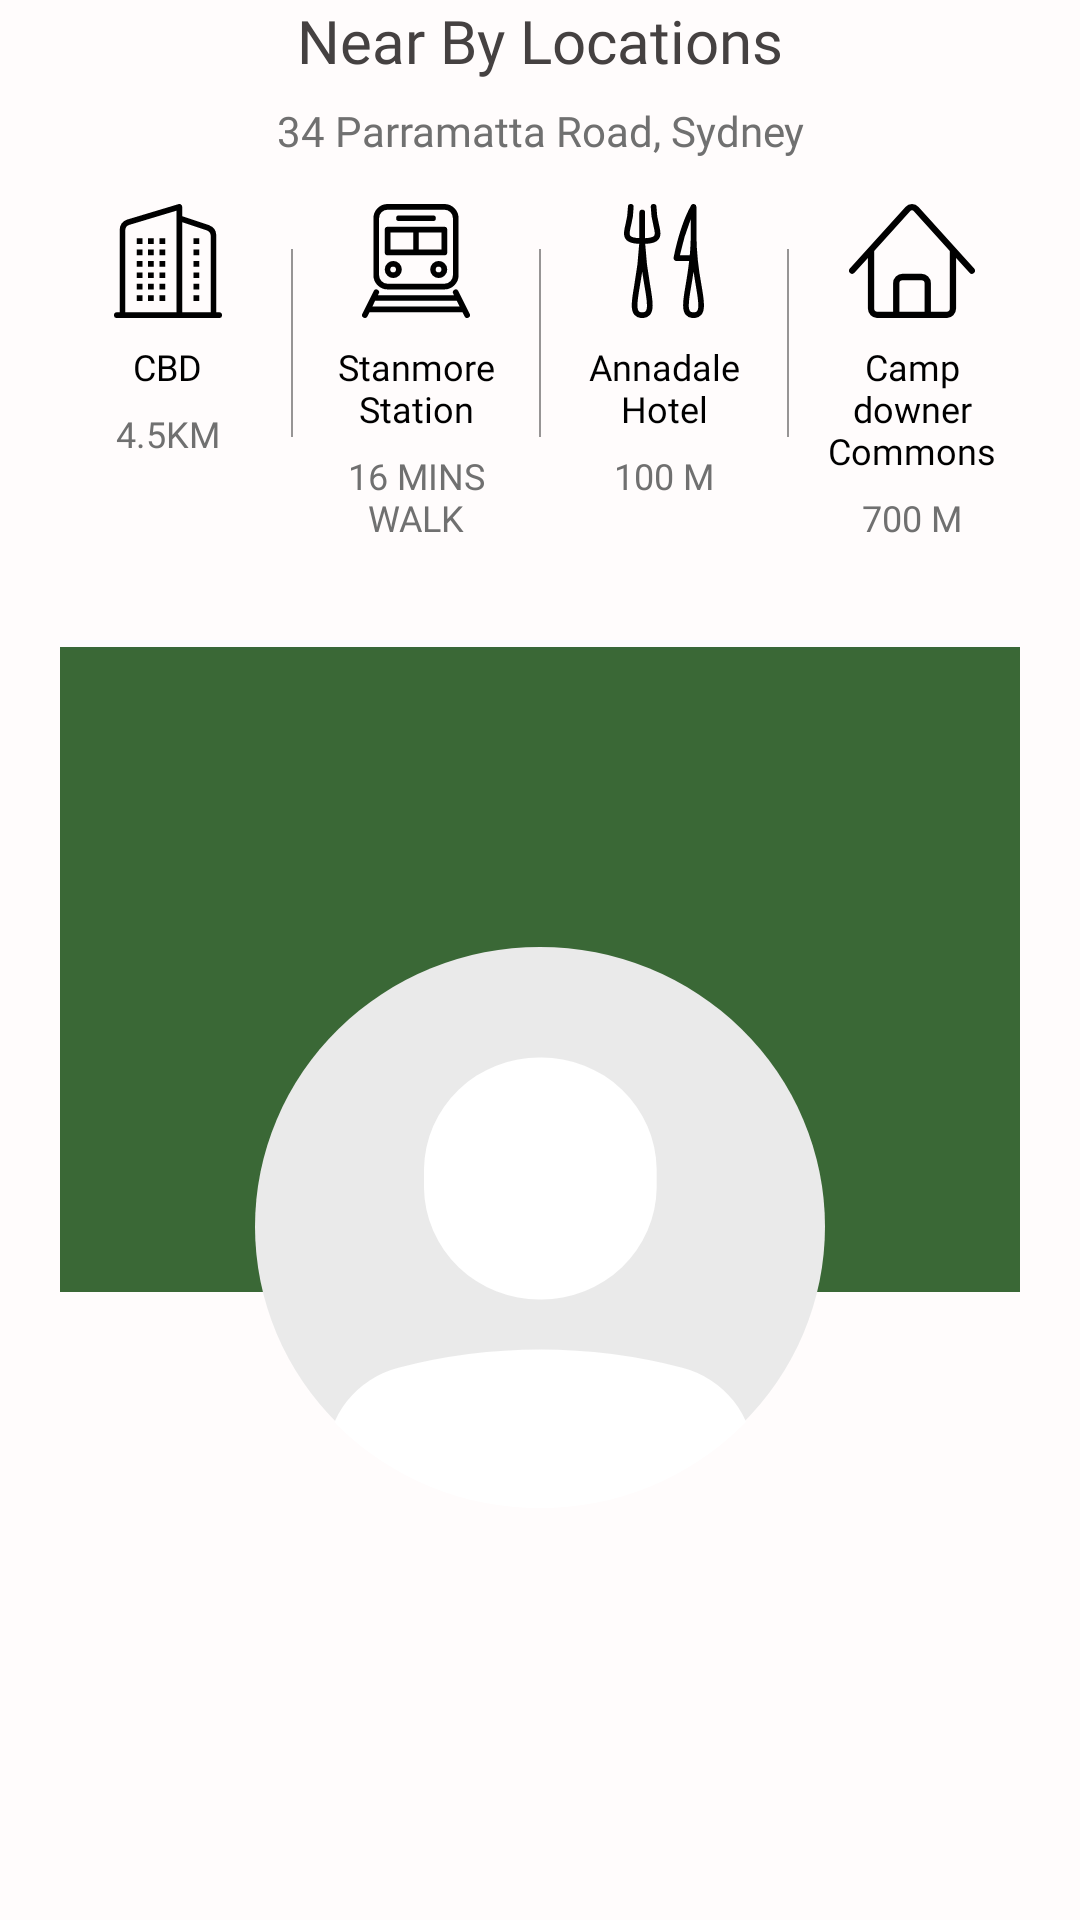

Screen size 1080 × 1920. Icon name, then its box in pixels as bbox=[x1, y1, x2, y2]:
apartment: bbox=[114, 204, 222, 318]
dinner: bbox=[624, 204, 704, 318]
home: bbox=[849, 204, 975, 318]
train: bbox=[362, 204, 470, 318]
